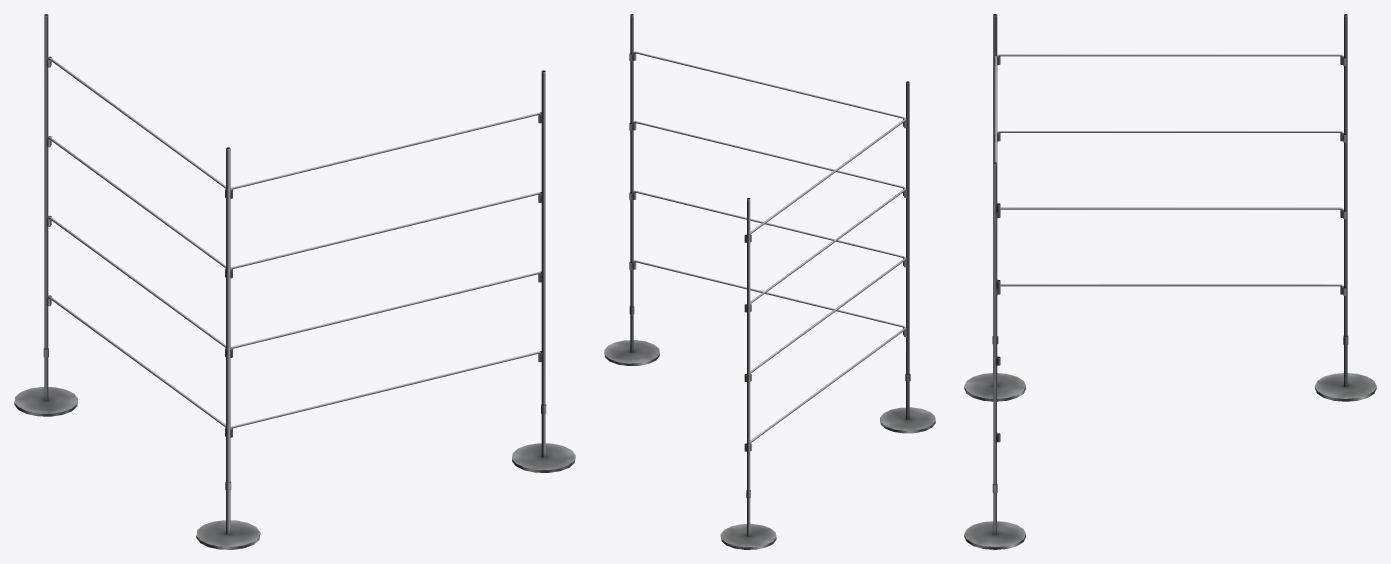
The model's file is jsf_DisplayStand_02.fbx.
3 views of the same model, side by side, from view 1: azimuth 30°, elevation 25°; view 2: azimuth 150°, elevation 25°; view 3: azimuth 270°, elevation 25° (orthographic). The views are drawn at different scales.
Visible parts, largest first — view 1: jsf_DisplayStand_02; view 2: jsf_DisplayStand_02; view 3: jsf_DisplayStand_02.
Part boxes in pixels (x1,y1,x2,y2): jsf_DisplayStand_02: [14, 14, 575, 549]; jsf_DisplayStand_02: [604, 14, 935, 549]; jsf_DisplayStand_02: [964, 14, 1376, 549].
Bounding box in the file's own units: 200 × 200 × 200.
